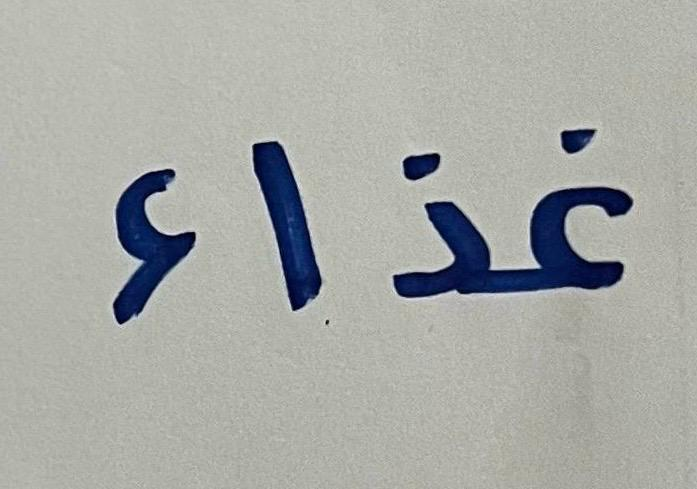alef: (215, 70, 351, 386)
ghain: (507, 87, 675, 389)
hamza: (69, 58, 211, 398)
thal: (356, 102, 501, 385)
